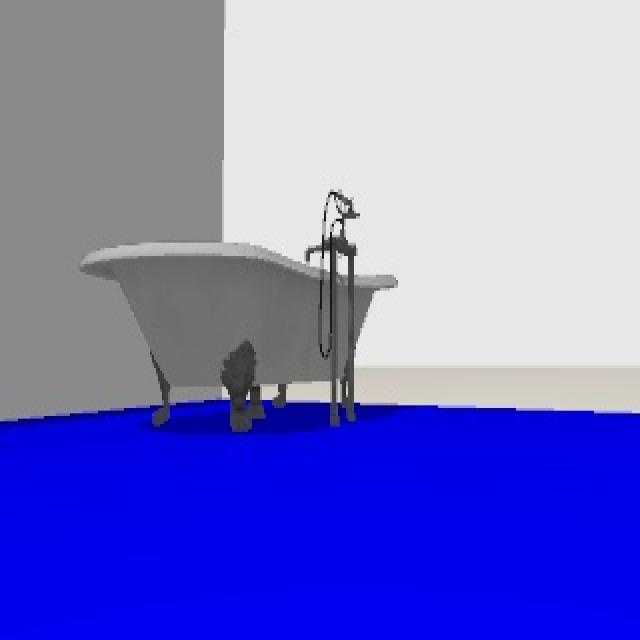bathtub: (77, 191, 400, 431)
